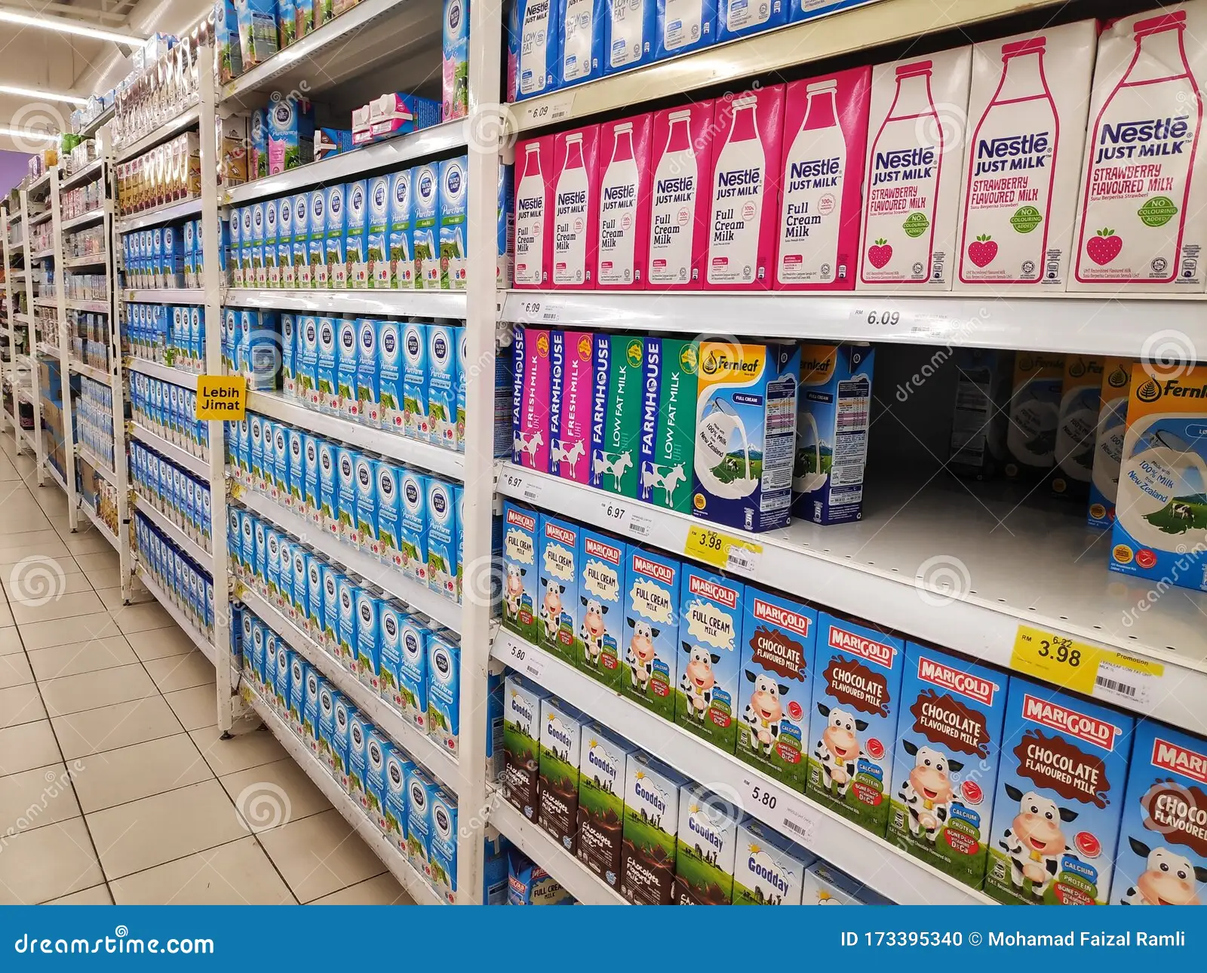milk: (970, 20, 1082, 289), (895, 646, 999, 844), (774, 78, 865, 284), (693, 340, 760, 520), (596, 115, 650, 289)
